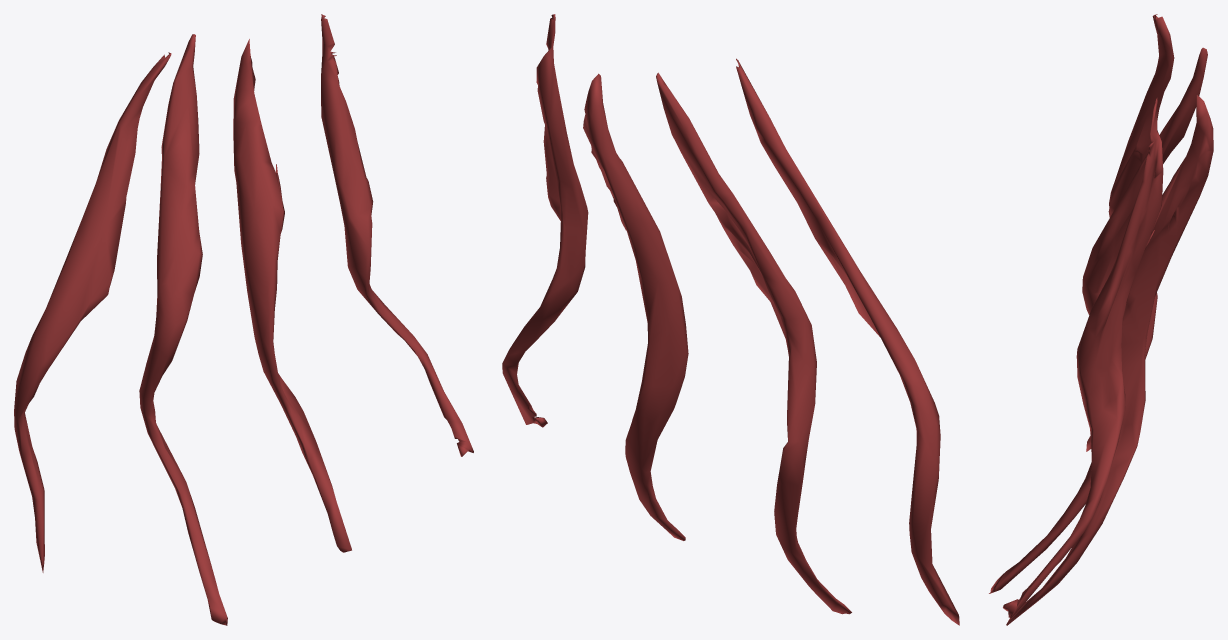
File: lumbrical-muscles-of-hand-r.glb
3 renders of one model, left to right at view 1: azimuth 30°, elevation 25°; view 2: azimuth 150°, elevation 25°; view 3: azimuth 270°, elevation 25°, orthographic. The views are drawn at different scales.
Parts seen in each view (by area): view 1: Lumbrical muscles of hand.r; view 2: Lumbrical muscles of hand.r; view 3: Lumbrical muscles of hand.r.
Part boxes in pixels (<box>): Lumbrical muscles of hand.r: <box>14,14,473,625</box>; Lumbrical muscles of hand.r: <box>502,14,959,625</box>; Lumbrical muscles of hand.r: <box>989,14,1213,625</box>.
Size of the model in its own units: 0.0758 by 0.0929 by 0.0321.
